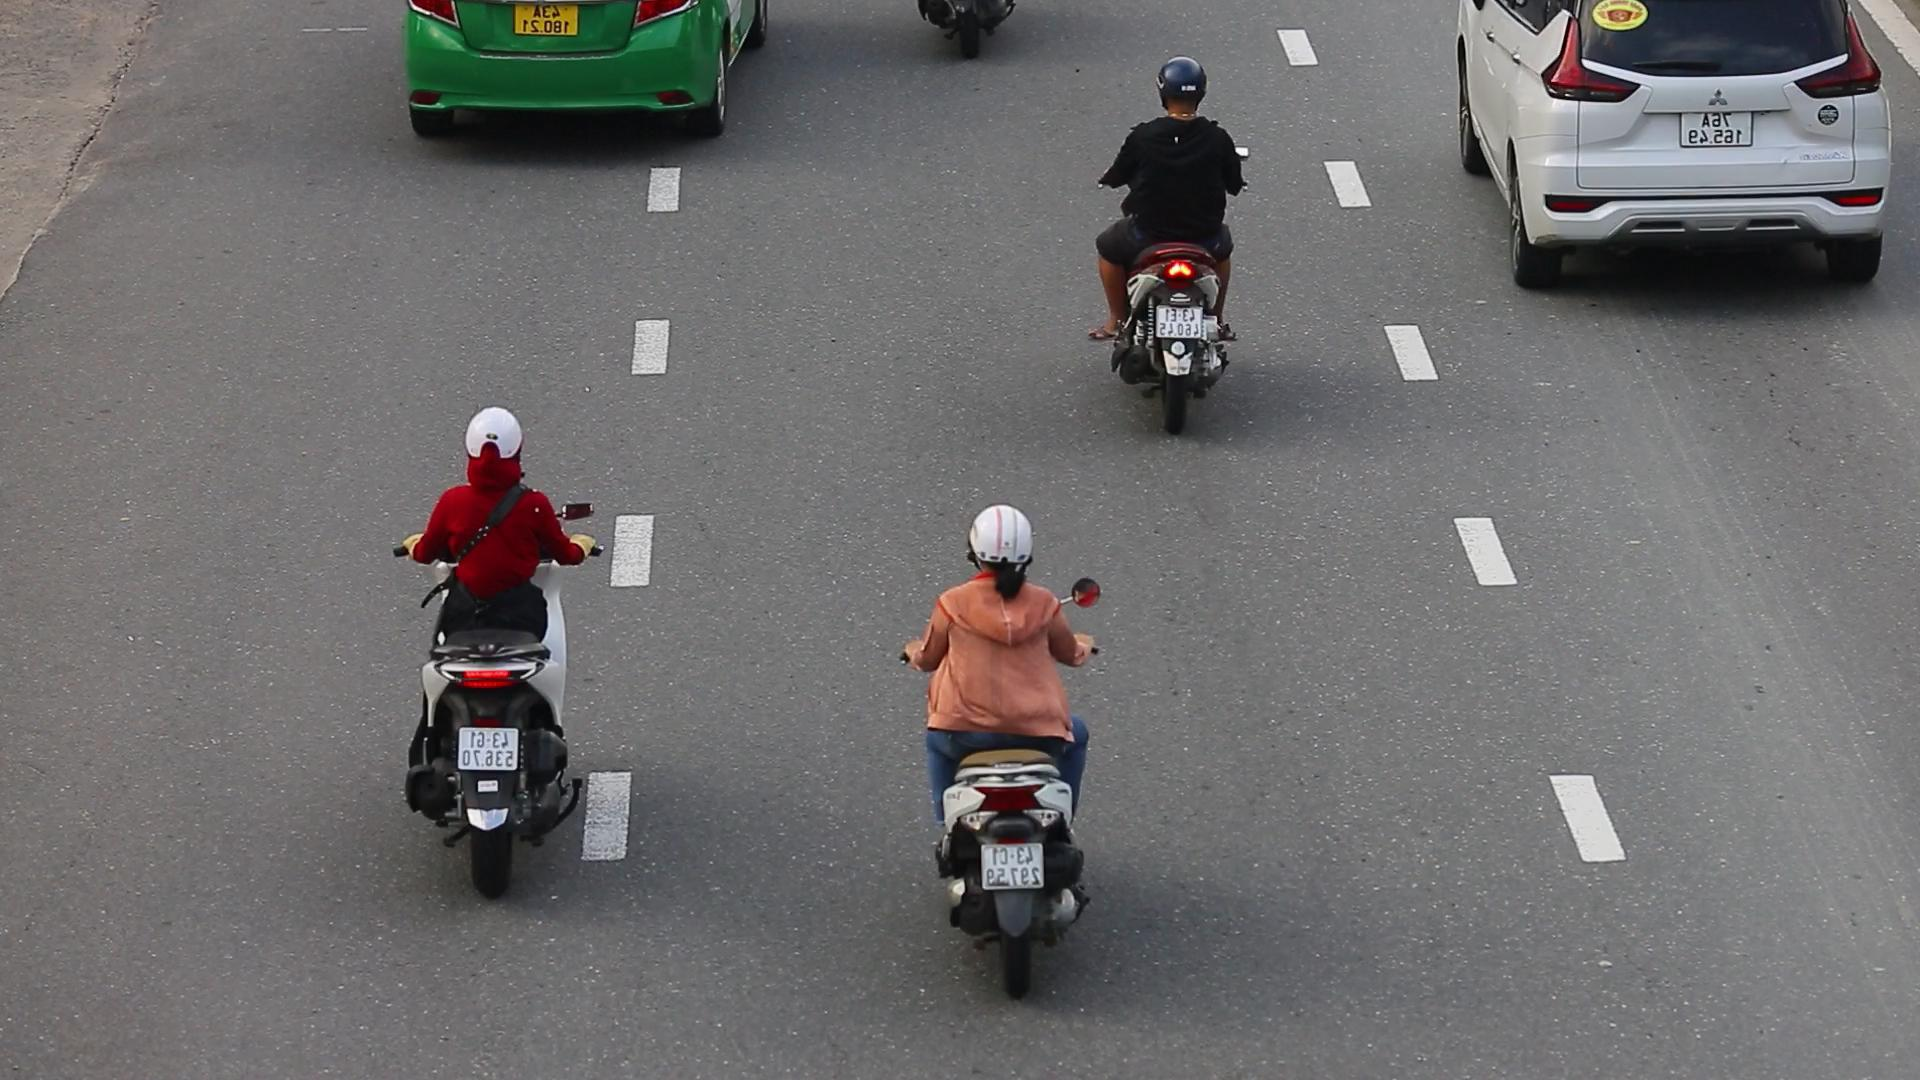motobike: (378, 394, 599, 902), (897, 495, 1110, 1000), (1093, 54, 1263, 438)
